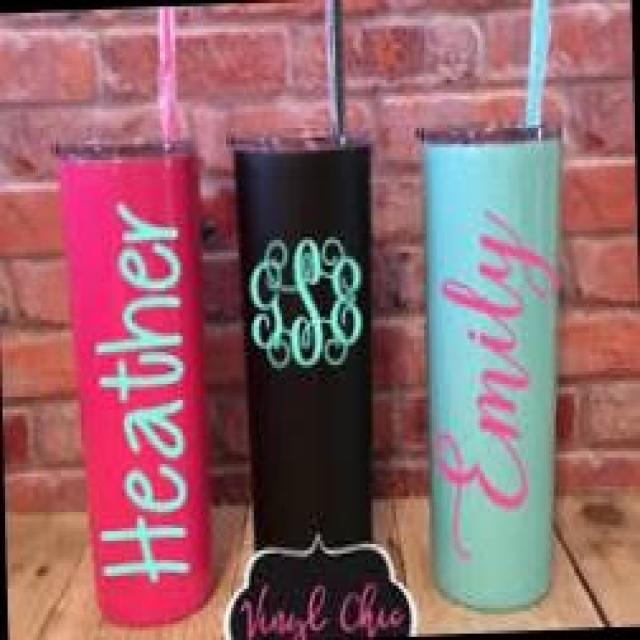bottle: (414, 0, 581, 614), (50, 5, 212, 632), (229, 1, 381, 622)
